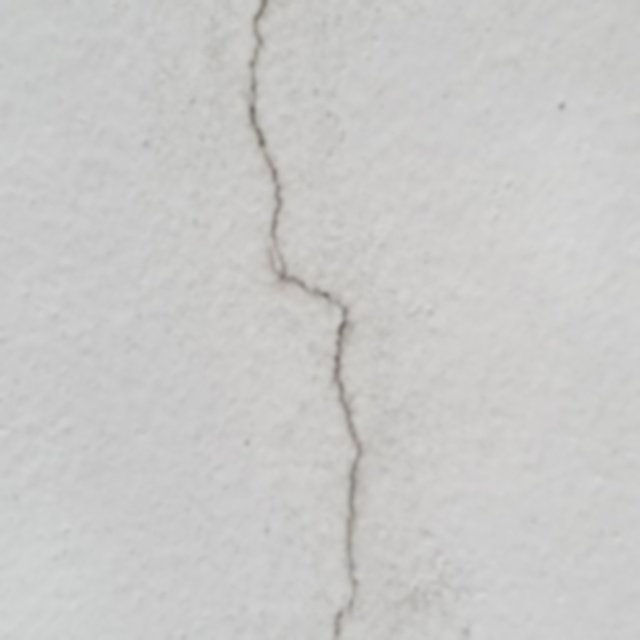SurfaceCrack: (214, 0, 402, 640)
